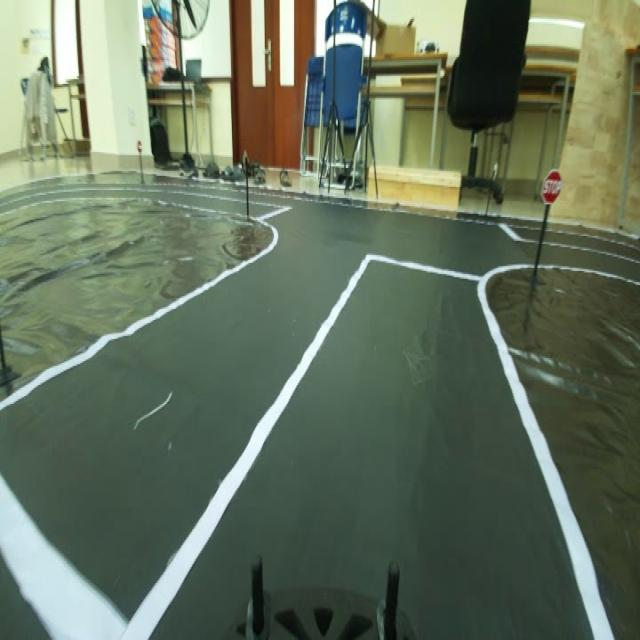stop: (538, 162, 565, 207)
